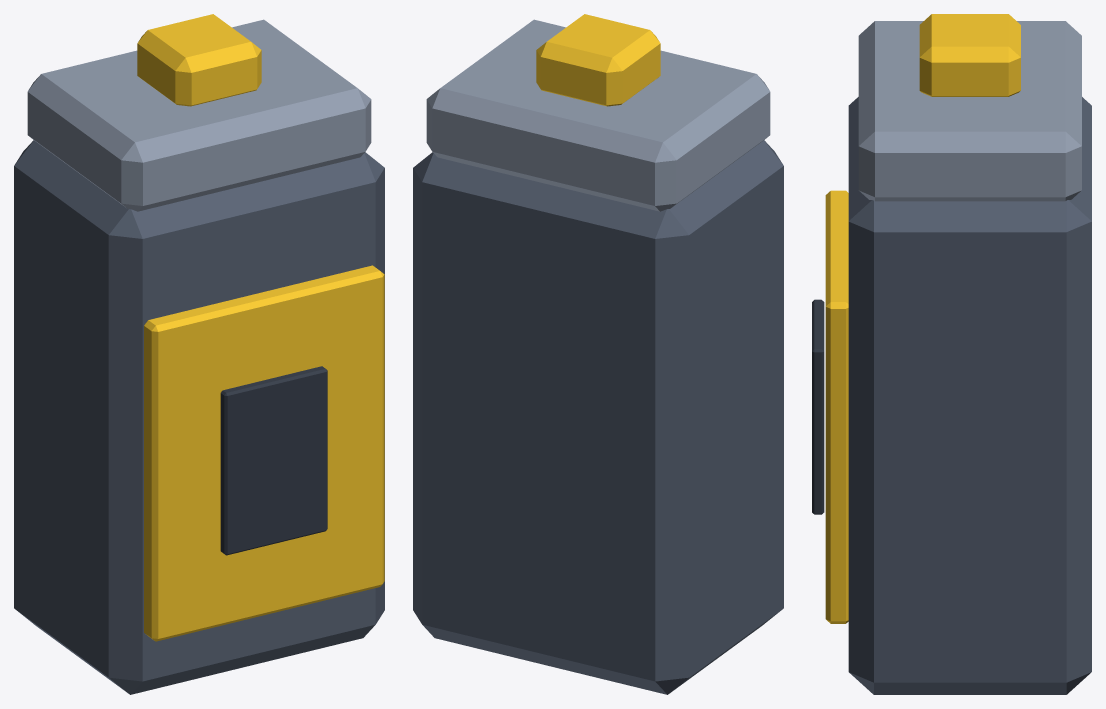
Rendered from Throwable_Incendiary_v003.fbx.
The picture shows the model from 3 angles, left to right: view 1: azimuth 30°, elevation 25°; view 2: azimuth 150°, elevation 25°; view 3: azimuth 270°, elevation 25°; orthographic projection.
Parts seen in each view (by area): view 1: Throwable_Incendiary__RECEIVER_MESH; view 2: Throwable_Incendiary__RECEIVER_MESH; view 3: Throwable_Incendiary__RECEIVER_MESH.
Boxes of the visible parts, x1,y1,x2,y2 form: Throwable_Incendiary__RECEIVER_MESH: (14, 14, 384, 694); Throwable_Incendiary__RECEIVER_MESH: (413, 14, 783, 694); Throwable_Incendiary__RECEIVER_MESH: (812, 14, 1091, 694).
Size of the model in its own units: 0.32 by 0.66 by 0.276.
